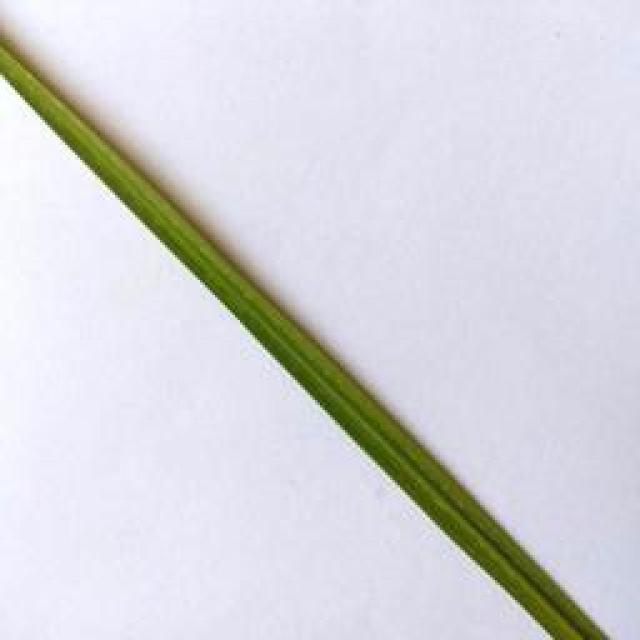Healthy-Plant: (0, 37, 607, 640)
